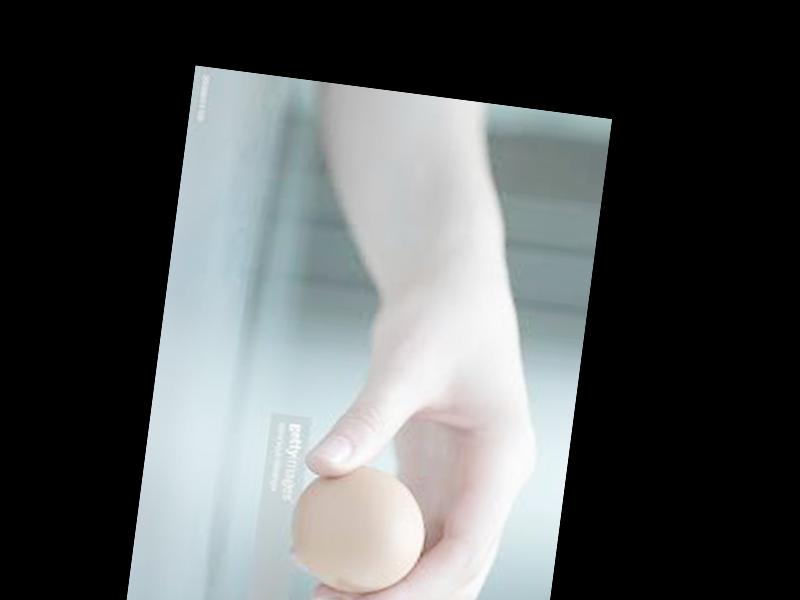Eggs: (282, 455, 434, 600)
